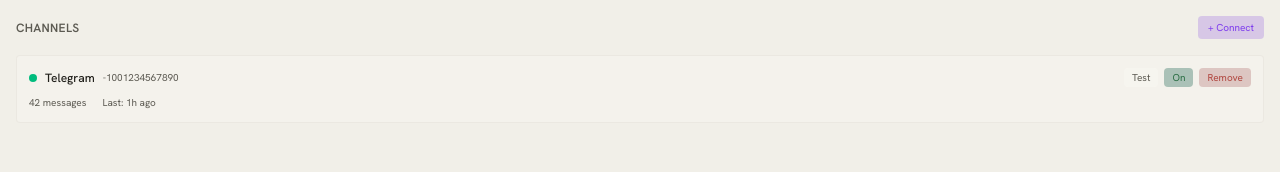
Test: ChannelsTab › shows error banner on toggle failure
The image size is (1280, 172).
What coordinates should you click on to do the following:
click the button "On"
I would click on:
 (1179, 78)
Its box is [1164,68,1194,87].
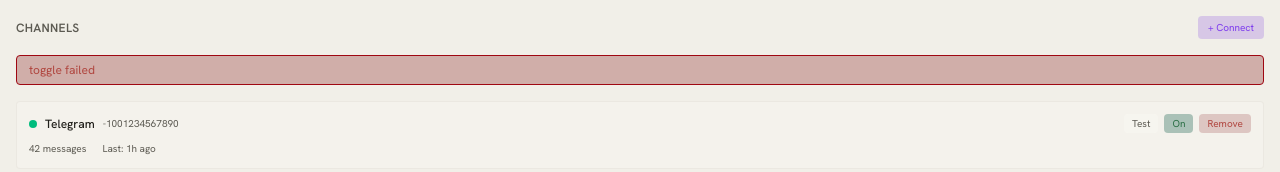
Result: the text "toggle failed" is shown at [16,55,1264,85]
